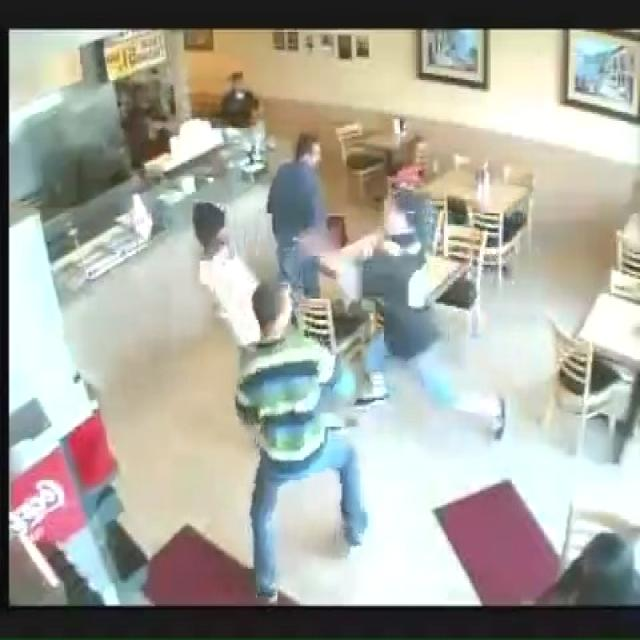fight: (240, 187, 434, 604), (182, 188, 434, 338)
